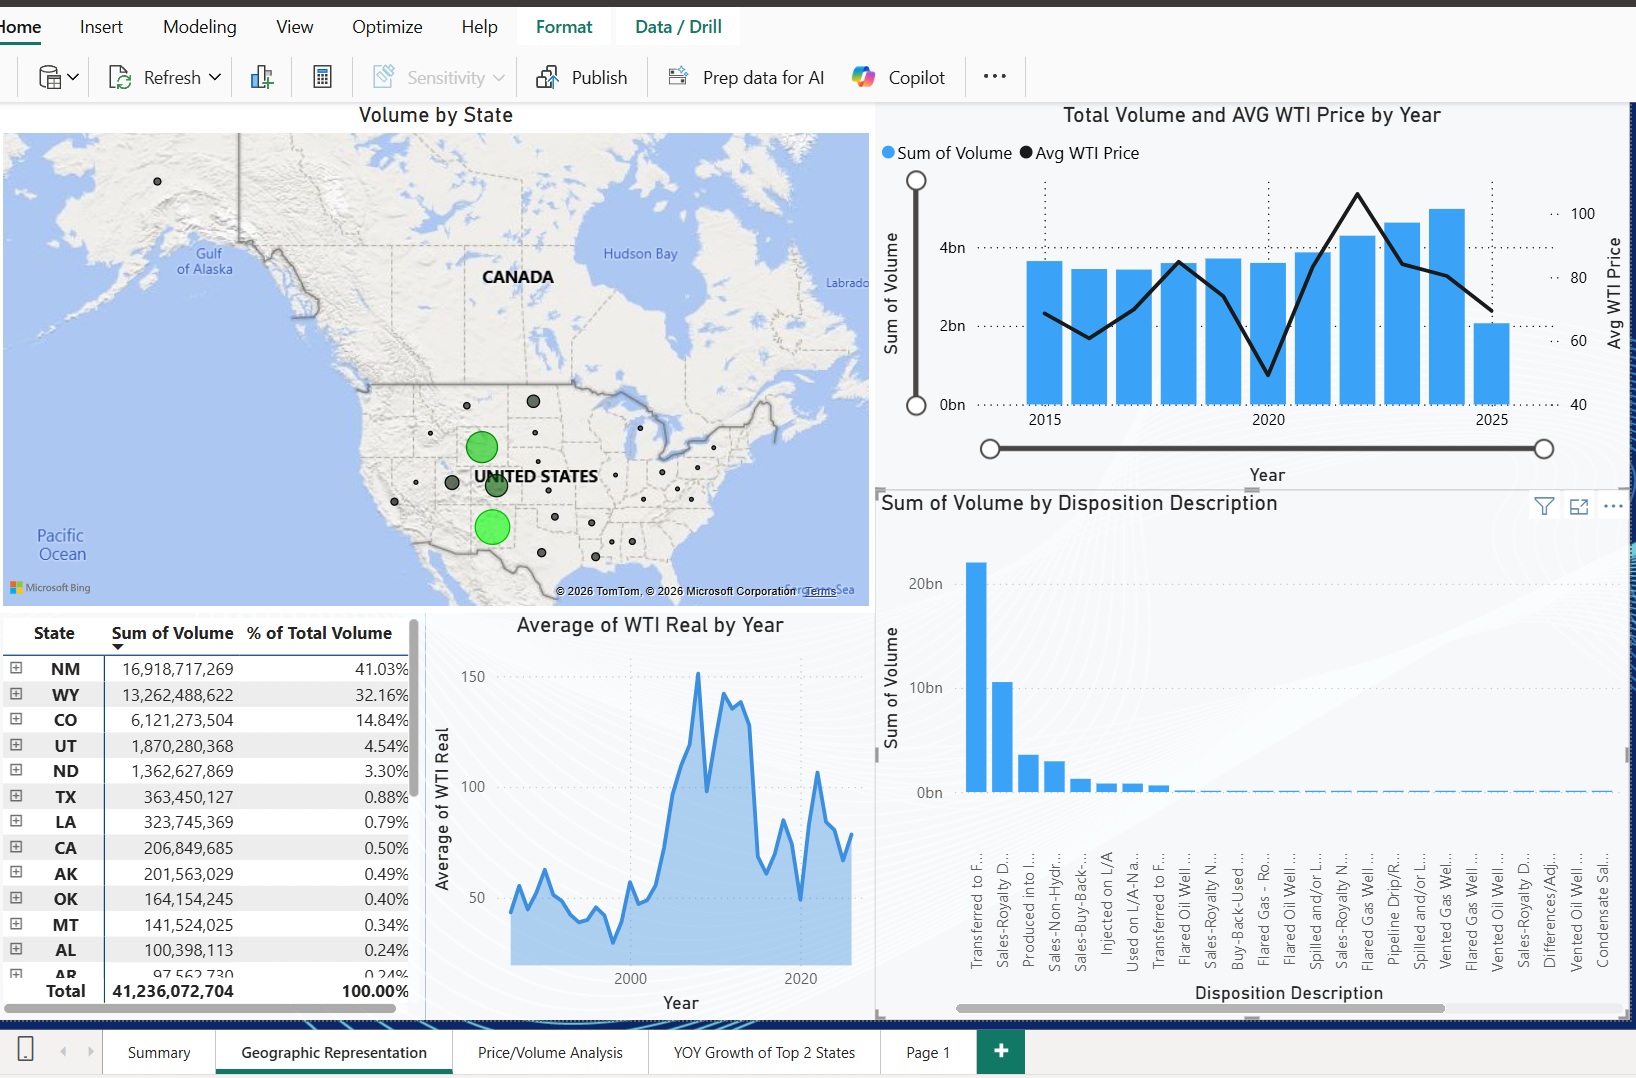

What the dashboard file says about the page in this screenshot:
{"tool":"powerbi","page":{"name":"Geographic Representation","canvas":[1280,720],"ordinal":1},"visuals":[{"type":"lineStackedColumnComboChart","title":"Total Volume and AVG WTI Price by Year","fields":{"Category":["Oil Prices.Date.Variation.Date Hierarchy.Year","Oil Prices.Date.Variation.Date Hierarchy.Month"],"Y":["Sum(OGORBcsv.Volume)"],"Y2":["OGORBcsv.Avg WTI Price Paid (State)"]},"box":[688,0,592,304],"z":0},{"type":"pivotTable","fields":{"Rows":["OGORBcsv.State","OGORBcsv.County","Oil Prices.Date.Variation.Date Hierarchy.Year","Oil Prices.Date.Variation.Date Hierarchy.Quarter","Oil Prices.Date.Variation.Date Hierarchy.Month"],"Values":["Sum(OGORBcsv.Volume)","Divide(Sum(OGORBcsv.Volume), ScopedEval(Sum(OGORBcsv.Volume), []))"]},"box":[0,400,336,320],"z":1000},{"type":"actionButton","box":[0,0,100,40],"z":2000},{"type":"columnChart","fields":{"Category":["OGORBcsv.Disposition Description"],"Y":["Sum(OGORBcsv.Volume)"]},"box":[688,304,592,416],"z":3000},{"type":"map","title":"Volume by State","fields":{"Category":["OGORBcsv.State","OGORBcsv.County"],"Size":["Sum(OGORBcsv.Volume)"]},"box":[0,0,688,400],"z":4000},{"type":"lineChart","fields":{"Category":["Oil Prices.Date.Variation.Date Hierarchy.Year"],"Y":["Avg(Oil Prices.WTI Real)"]},"box":[336,400,352,320],"z":5000}]}

Visuals, with their boxes on the page's 1280x720 design canvas (x1, y1, x2, y2). These are canvas units, not pixel positions in the 1636x1078 screenshot, which may show the page scaled, cropped or inside an application window:
"Total Volume and AVG WTI Price by Year" lineStackedColumnComboChart: [x1=688, y1=0, x2=1280, y2=304]
pivotTable - OGORBcsv.State x OGORBcsv.County: [x1=0, y1=400, x2=336, y2=720]
actionButton: [x1=0, y1=0, x2=100, y2=40]
columnChart - OGORBcsv.Disposition Description x Sum(OGORBcsv.Volume): [x1=688, y1=304, x2=1280, y2=720]
"Volume by State" map: [x1=0, y1=0, x2=688, y2=400]
lineChart - Oil Prices.Date.Variation.Date Hierarchy.Year x Avg(Oil Prices.WTI Real): [x1=336, y1=400, x2=688, y2=720]
